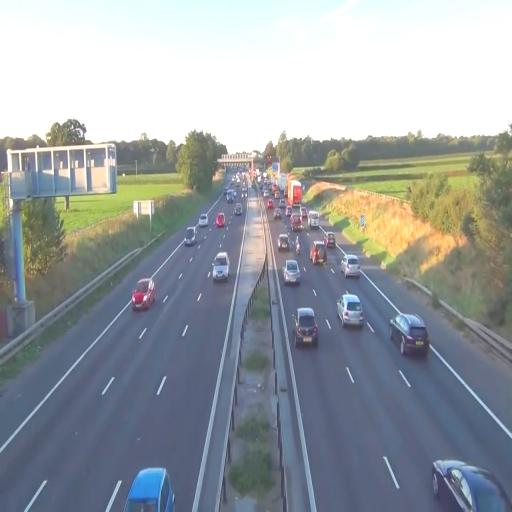vehicle: (431, 458, 512, 511), (124, 466, 176, 512), (389, 312, 430, 359), (293, 307, 319, 347), (338, 293, 364, 329), (132, 278, 156, 310), (211, 251, 230, 281), (282, 259, 301, 285), (341, 254, 361, 277), (310, 240, 326, 265), (277, 232, 291, 251), (184, 227, 196, 246)
